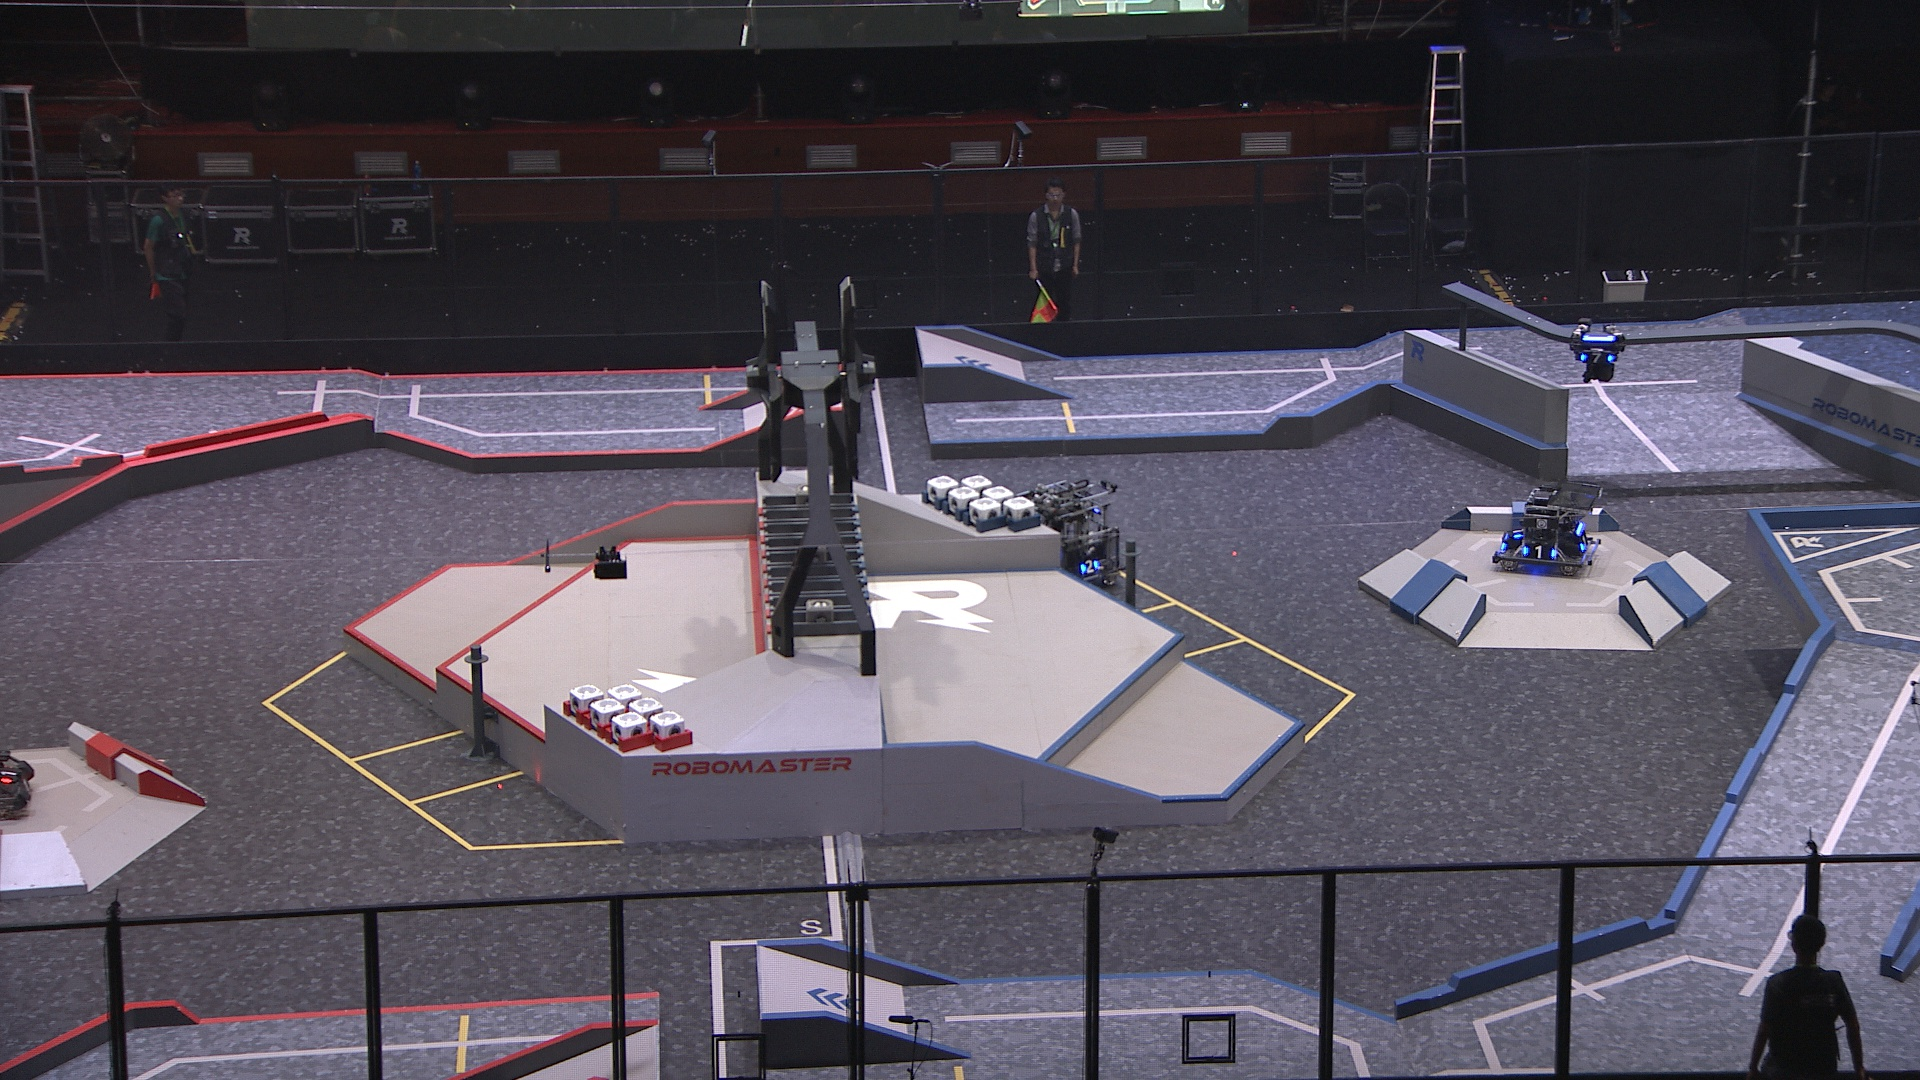armor: (1520, 545, 1556, 560), (1077, 559, 1102, 578), (1577, 352, 1617, 363), (1510, 527, 1527, 541), (1578, 535, 1590, 553)
car: (1011, 475, 1122, 588), (1491, 483, 1604, 572)
watcher: (1569, 318, 1629, 382)
